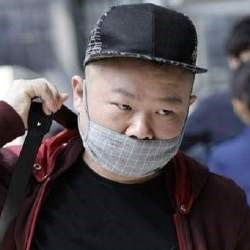mask: (79, 92, 187, 185)
